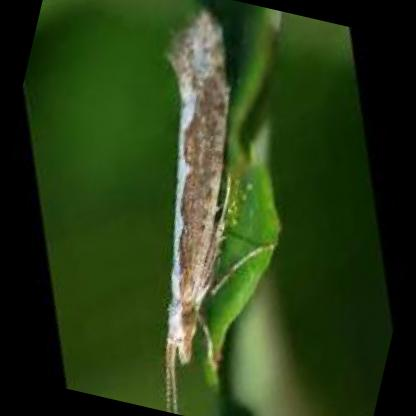plutella: (162, 0, 280, 414)
